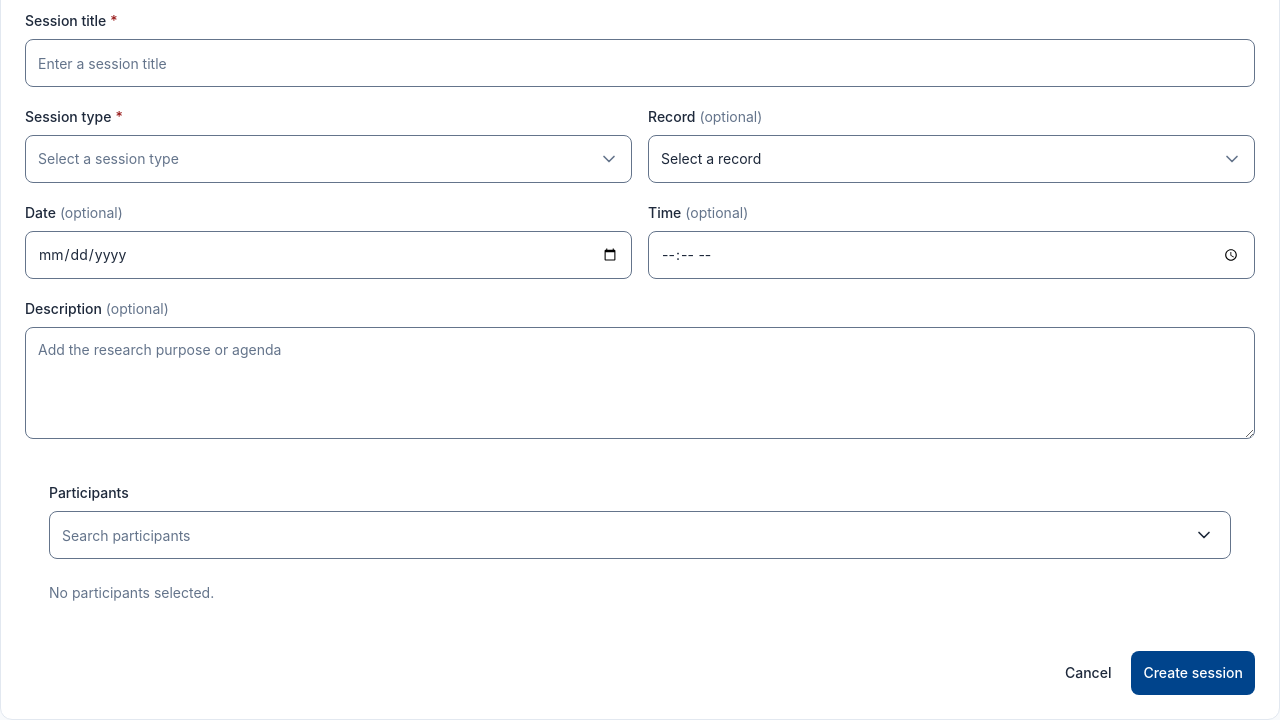
Test case: SessionForm › validates title and type before submission
The image size is (1280, 720).
(page scrolled)
Click the button "Create session".
click(1193, 673)  # box [1131,651,1255,695]
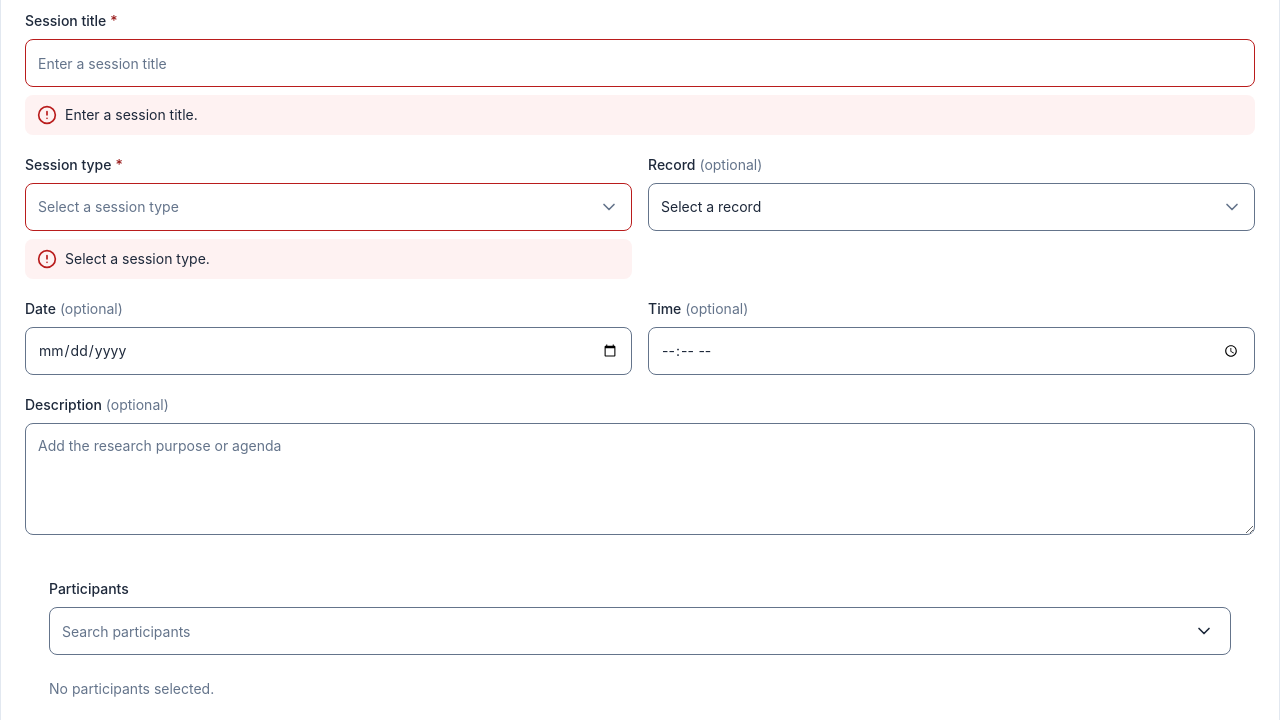
Check: the text "Enter a session title." is shown, box [65,105,198,125]
Check: the text "Select a session type." is shown, box [65,249,210,269]
